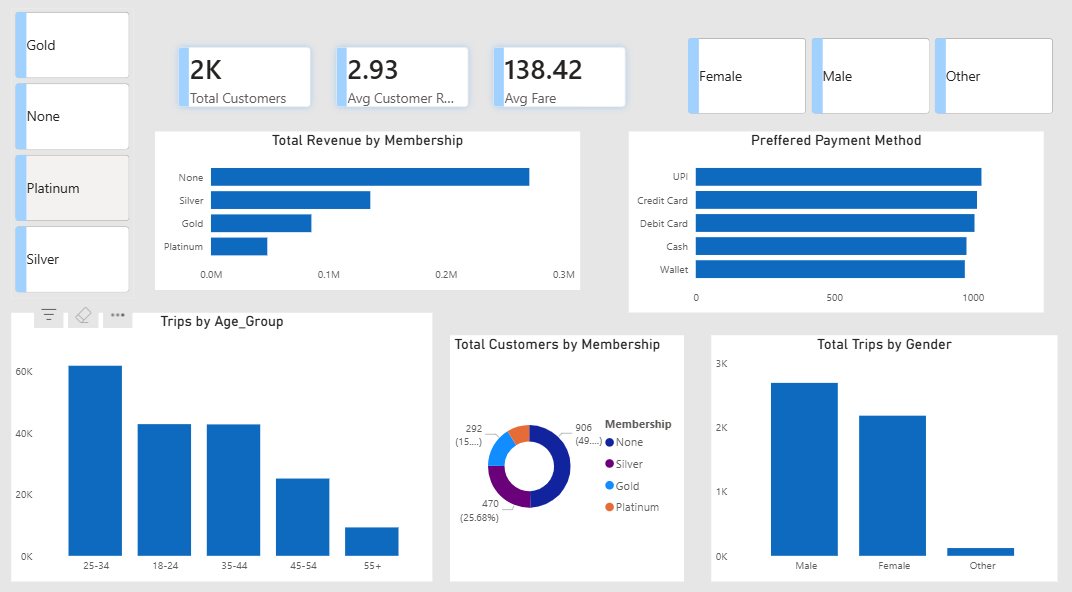

This screenshot's page, from the dashboard's own definition file:
{"tool":"powerbi","page":{"name":"Customer Insights","canvas":[1280,720],"ordinal":3},"visuals":[{"type":"cardVisual","fields":{"Data":["measure.Total Customers","measure.Avg Customer Rating","measure.Avg Fare"]},"box":[188.1,42.6,583.6,130.8],"z":0},{"type":"columnChart","title":"Trips by Age_Group","fields":{"Category":["Customers_Data.Age_Group"],"Y":["Sum(Customers_Data.Total_Trips)"]},"box":[19.1,386.6,495.4,316],"z":1000},{"type":"donutChart","fields":{"Category":["Customers_Data.Membership"],"Y":["measure.Total Customers"]},"box":[535.1,413,274.9,289.6],"z":2000},{"type":"barChart","title":"Preffered Payment Method","fields":{"Category":["Trips_Data.Payment_Method"],"Y":["measure.Total Trips"]},"box":[745.2,173.5,488,213.1],"z":3000},{"type":"columnChart","fields":{"Category":["Customers_Data.Gender"],"Y":["measure.Total Trips"]},"box":[842.3,413,407.2,289.6],"z":4000},{"type":"barChart","fields":{"Category":["Customers_Data.Membership"],"Y":["measure.Total Revenue"]},"box":[188.1,173.5,499.8,186.7],"z":5000},{"type":"advancedSlicerVisual","fields":{"Values":["Customers_Data.Gender"]},"box":[809.9,58.8,439.5,100],"z":6000},{"type":"advancedSlicerVisual","fields":{"Values":["Customers_Data.Membership"]},"box":[19.1,27.9,144.1,342.5],"z":7000}]}

Visuals, with their boxes in screenshot pixels (x1, y1, x2, y2), scaled from the page's 1280x720 canvas onto the 1072x592 screenshot:
cardVisual - measure.Total Customers x measure.Avg Customer Rating: 158,35,646,143
"Trips by Age_Group" columnChart: 16,318,431,578
donutChart - Customers_Data.Membership x measure.Total Customers: 448,340,678,578
"Preffered Payment Method" barChart: 624,143,1033,318
columnChart - Customers_Data.Gender x measure.Total Trips: 705,340,1046,578
barChart - Customers_Data.Membership x measure.Total Revenue: 158,143,576,296
advancedSlicerVisual - Customers_Data.Gender: 678,48,1046,131
advancedSlicerVisual - Customers_Data.Membership: 16,23,137,305
